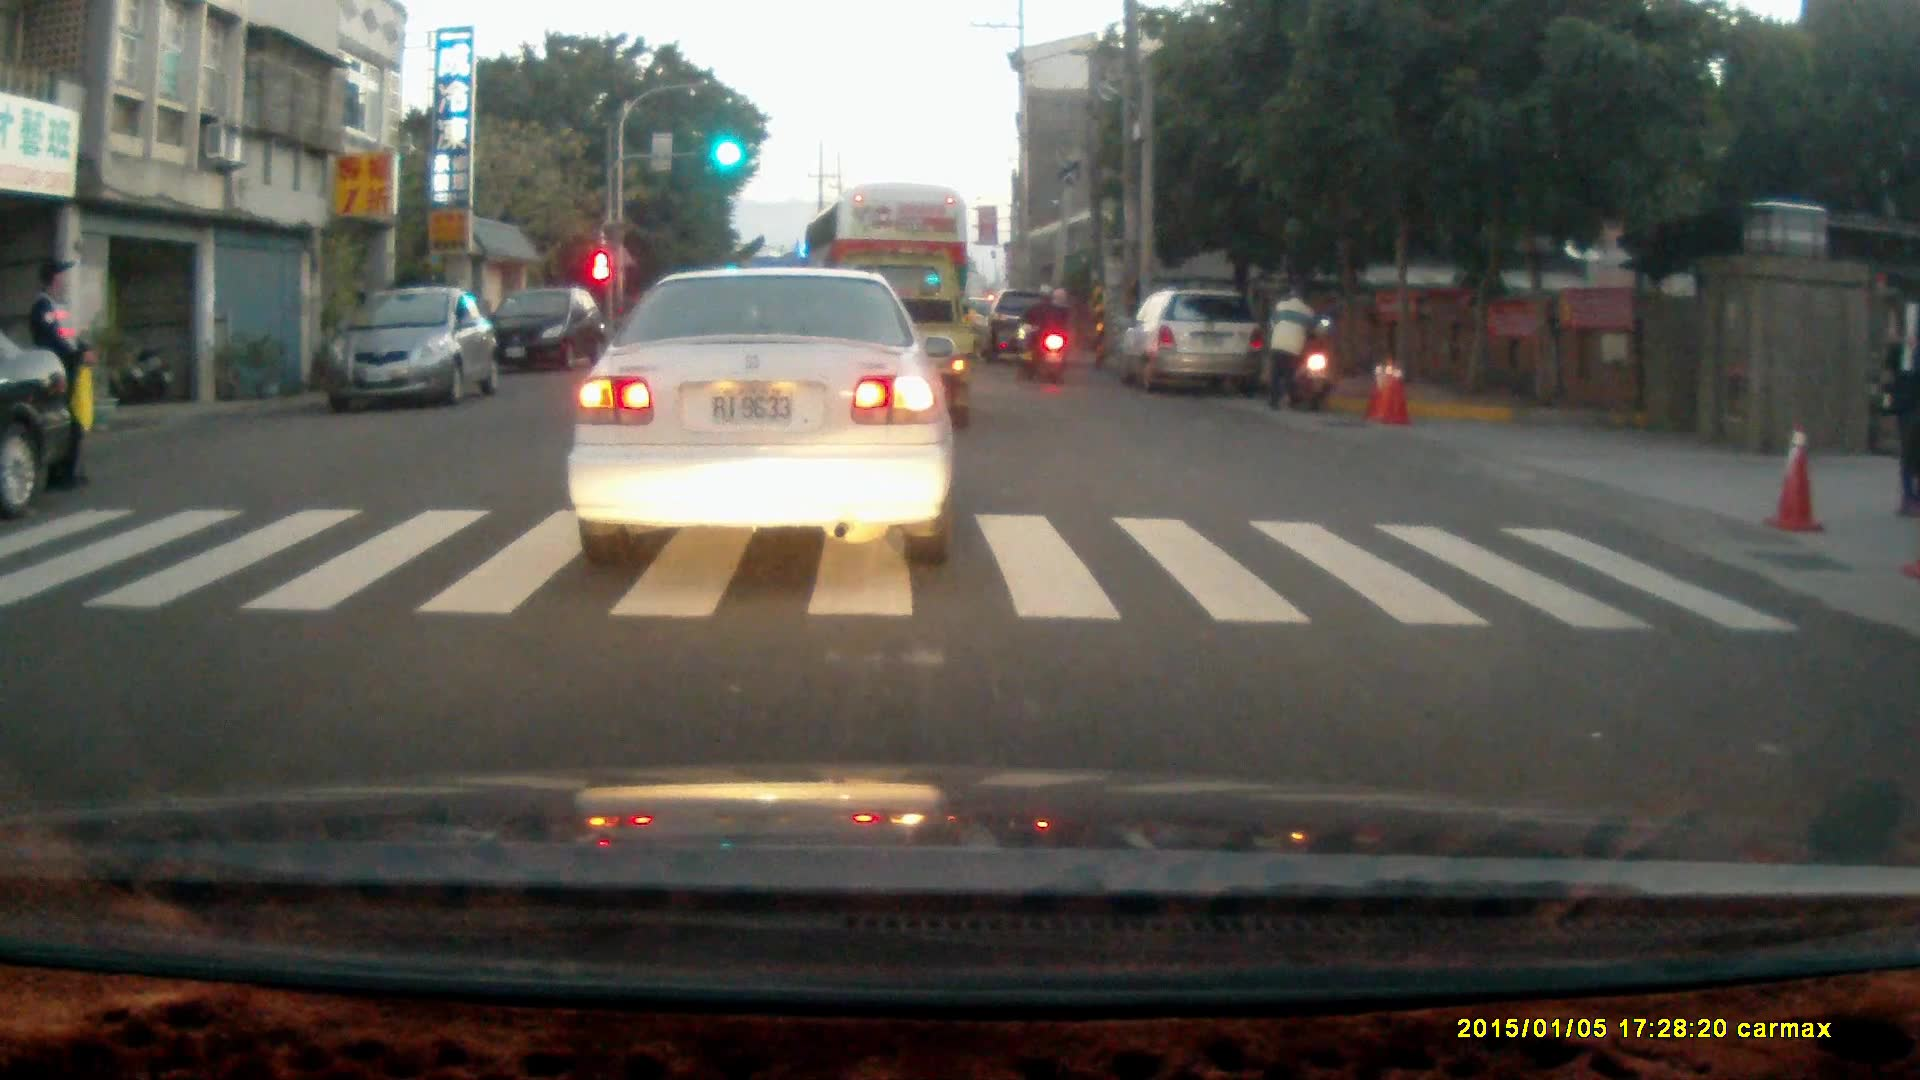pedestrian: (25, 258, 92, 495), (1881, 295, 1920, 522), (1264, 282, 1315, 410)
rider: (1014, 282, 1069, 391)
vehicle: (560, 264, 960, 570), (801, 184, 971, 383), (321, 284, 506, 412), (1, 321, 82, 517), (1125, 287, 1266, 391), (488, 286, 611, 372), (984, 288, 1072, 363)
